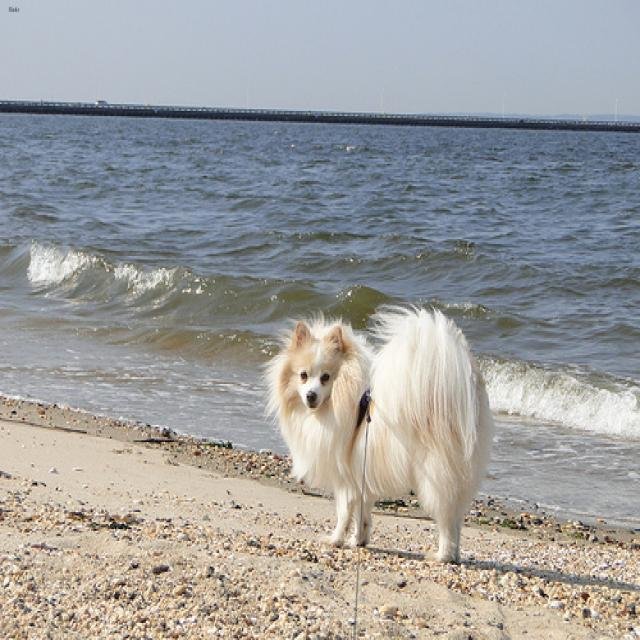dog-pomeranian: (259, 297, 509, 579)
